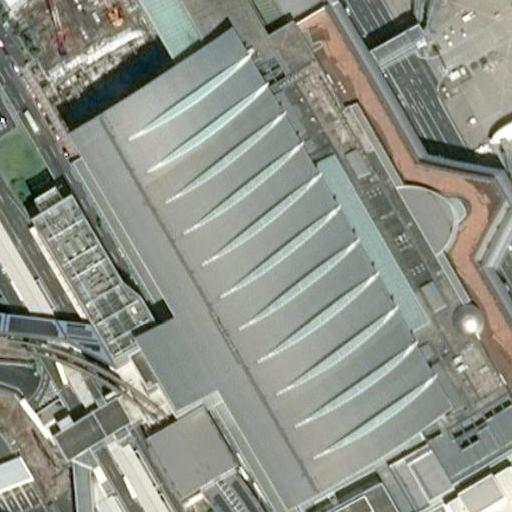Aircraft: (469, 20, 512, 155)
